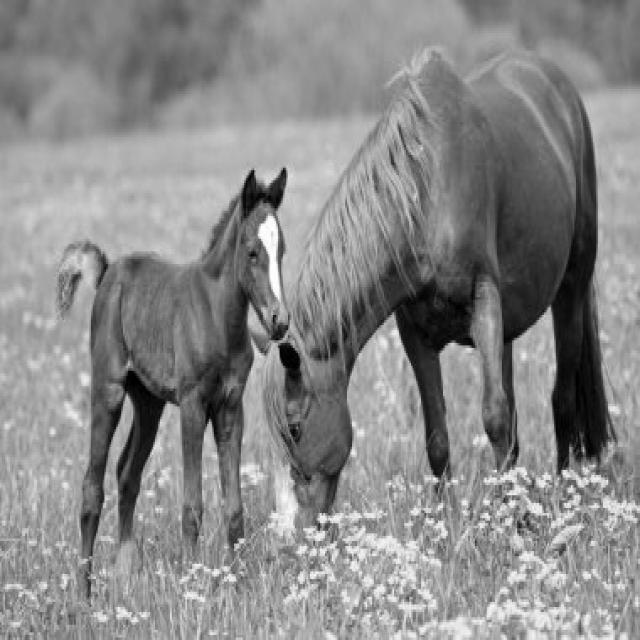Animal: (255, 41, 602, 545), (60, 156, 284, 597)
